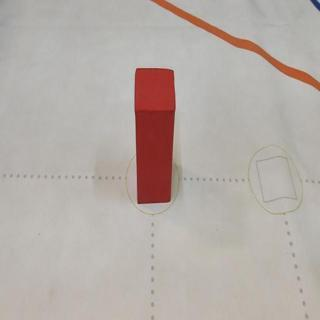redbox: (134, 67, 176, 202)
